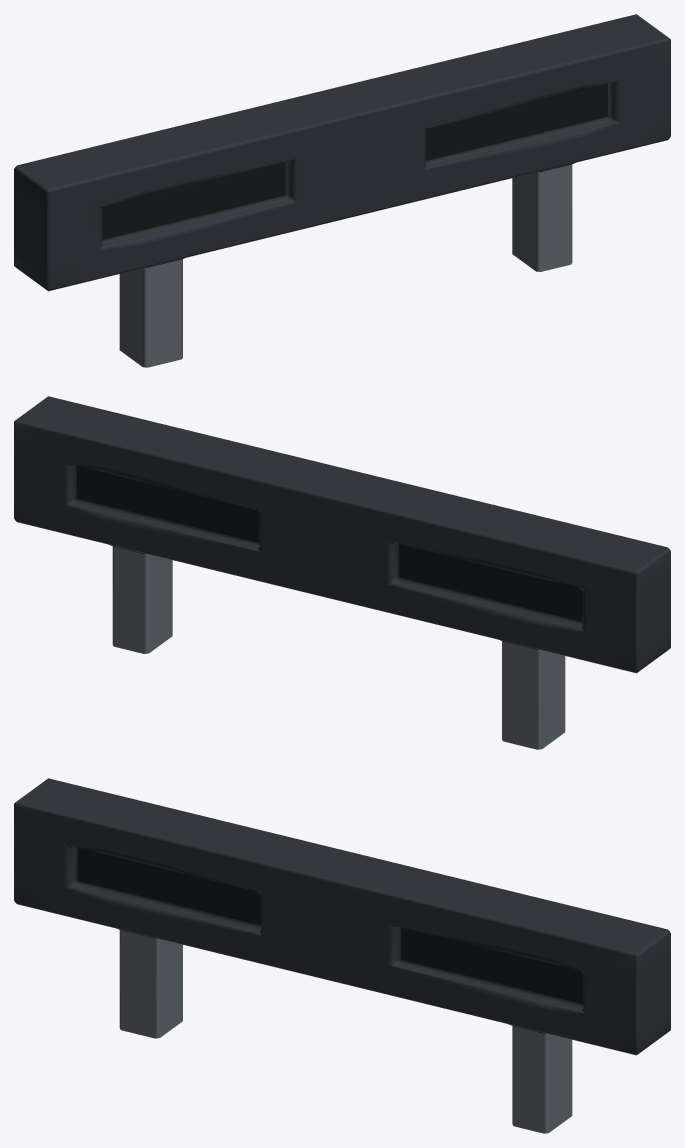
The model's file is fence_1.fbx.
3 renders of one model, top to bottom at view 1: azimuth 30°, elevation 25°; view 2: azimuth 150°, elevation 25°; view 3: azimuth 330°, elevation 25°, orthographic.
Visible parts, largest first — view 1: Cube.004; view 2: Cube.004; view 3: Cube.004.
Boxes of the visible parts, x1,y1,x2,y2 form: Cube.004: (14,14,670,367); Cube.004: (14,396,670,749); Cube.004: (14,778,670,1133).
Bounding box in the file's own units: 375 × 118 × 36.11.
